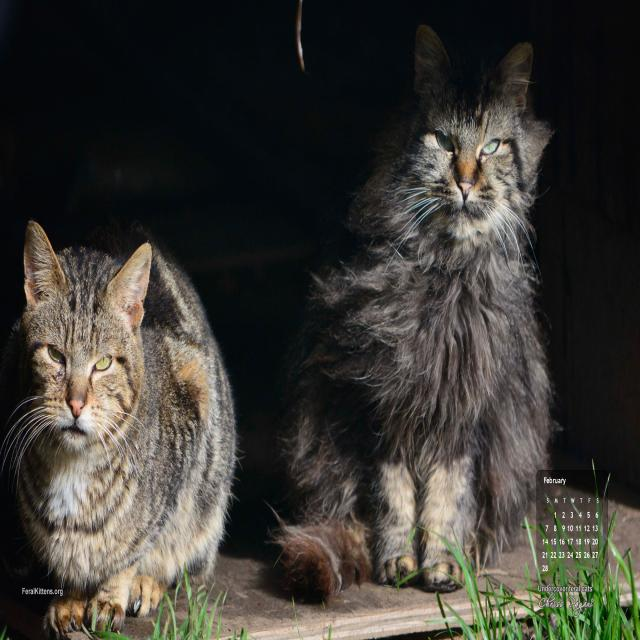cat: (278, 26, 551, 600), (1, 222, 236, 636)
